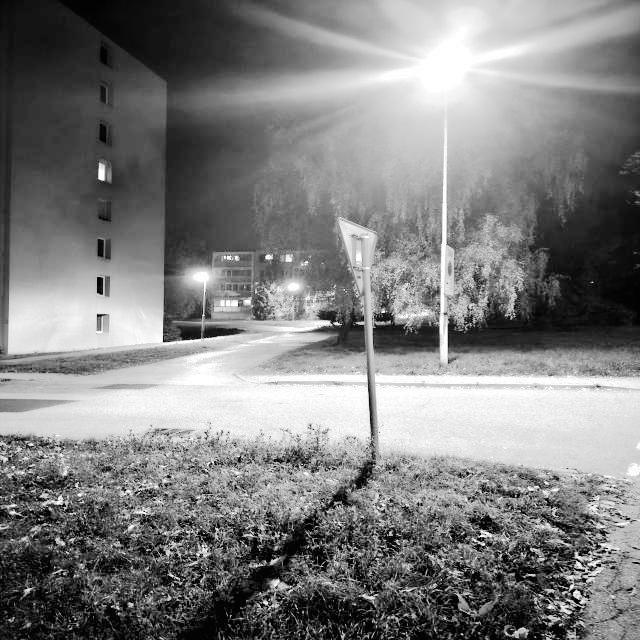Light: (433, 52, 458, 368), (288, 278, 305, 329), (195, 273, 208, 339)
